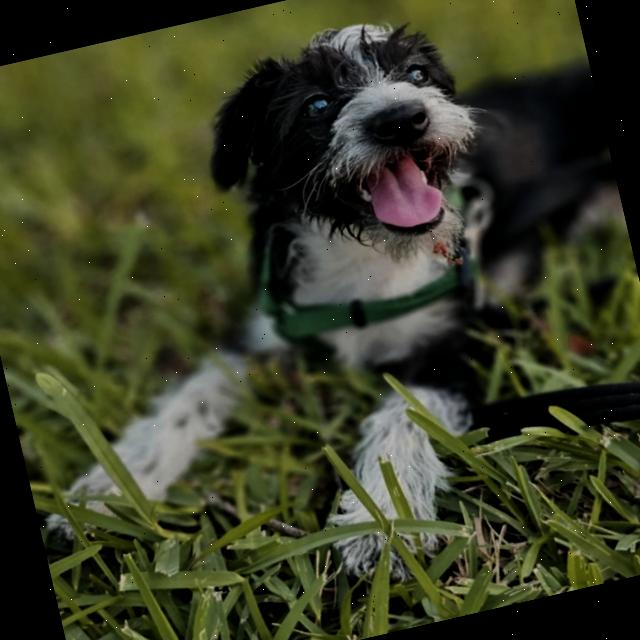Poodle_dog: (144, 0, 543, 337)
